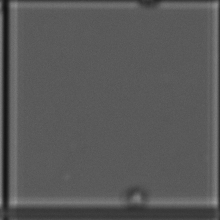Dead Cell: (122, 186, 150, 212)
